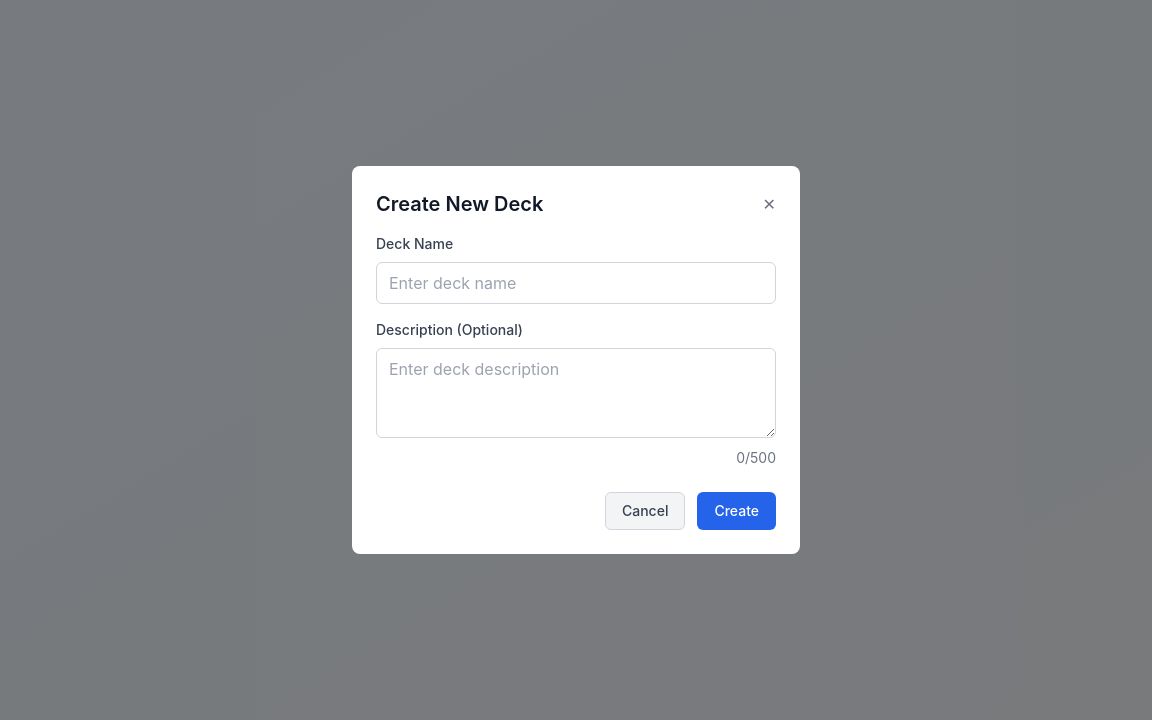
Test: CreateDeckModal - Submit › should not submit when name is empty
The width and height of the screenshot is (1152, 720).
Click the button "Create": x=737, y=511 [697, 492, 776, 530]
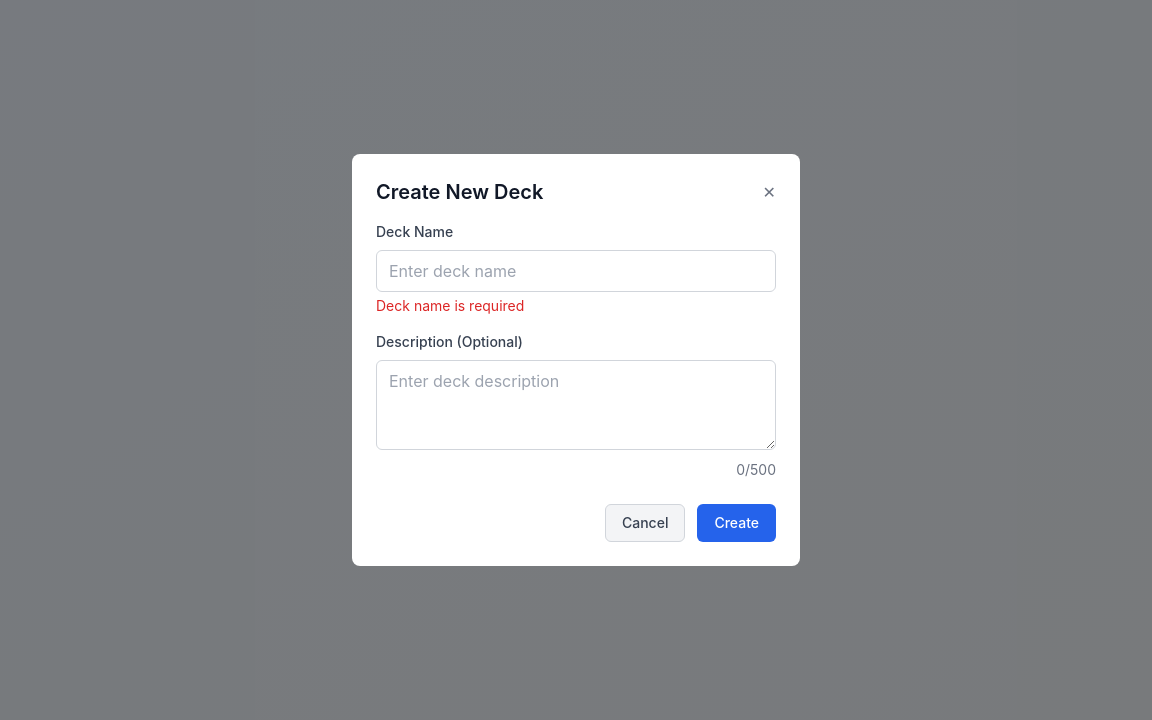
Result: the text "Deck name is required" is shown at [376, 297, 524, 314]
